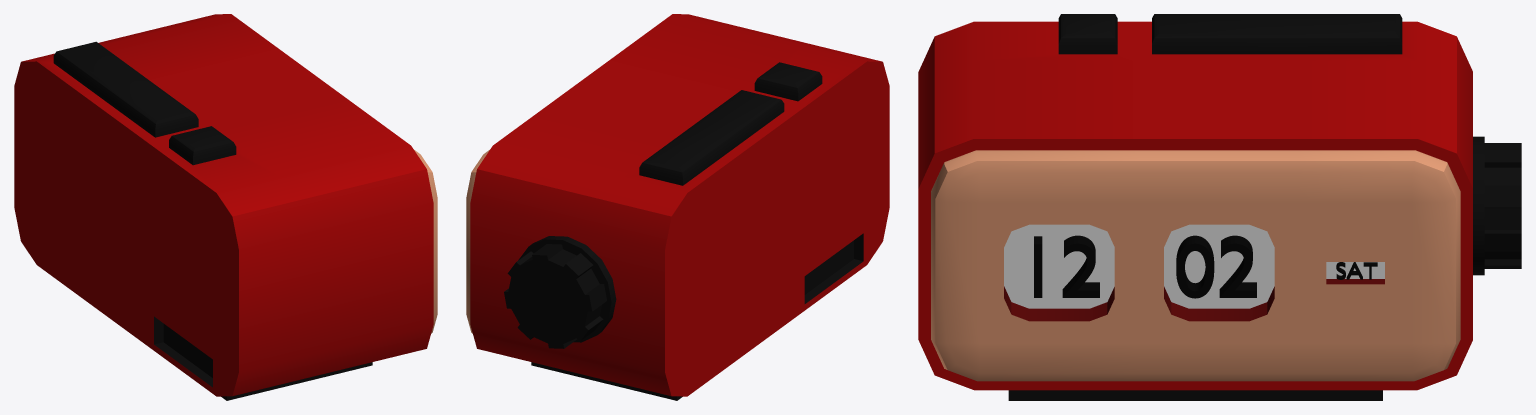
File: timer_module.glb
3 views of the same model, side by side, from view 1: azimuth 30°, elevation 25°; view 2: azimuth 150°, elevation 25°; view 3: azimuth 270°, elevation 25° (orthographic). The views are drawn at different scales.
Parts seen in each view (by area): view 1: Mesh_AlarmClock_01; view 2: Mesh_AlarmClock_01; view 3: Mesh_AlarmClock_01.
Boxes of the visible parts, <box> form: Mesh_AlarmClock_01: <box>14,14,437,400</box>; Mesh_AlarmClock_01: <box>466,14,889,400</box>; Mesh_AlarmClock_01: <box>918,14,1521,400</box>.
Bounding box in the file's own units: 10.73 × 11.71 × 21.75.
1 material, 1 textured.
